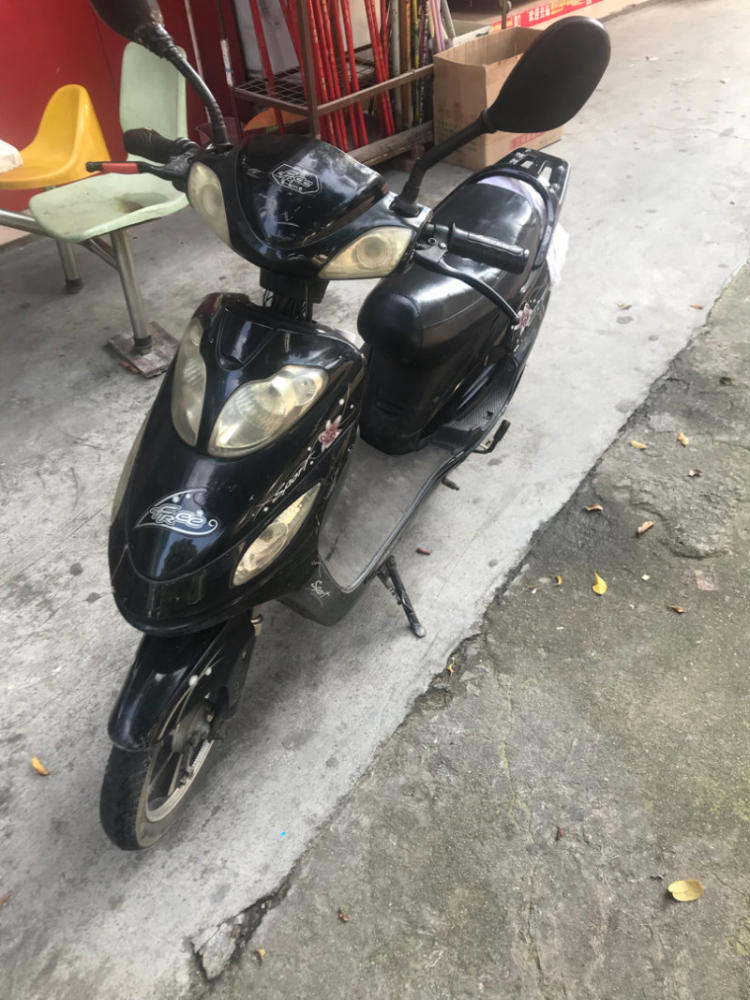电动车: (79, 1, 616, 863)
